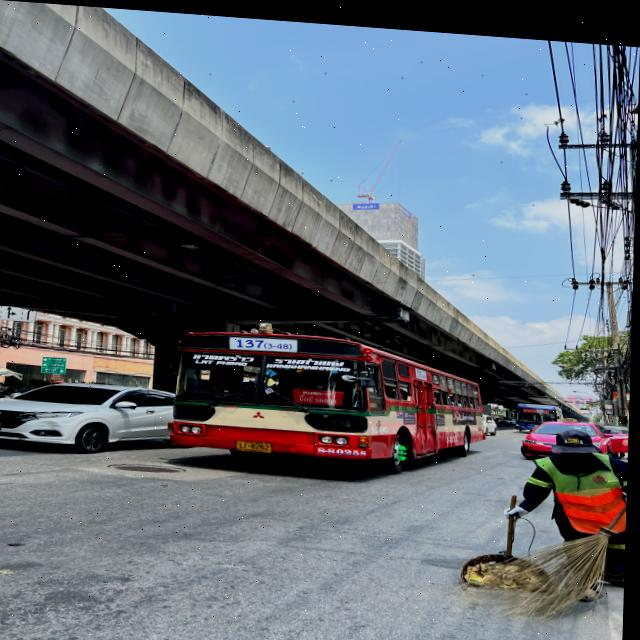BMTA-bus: (156, 309, 500, 478)
Bus Line Number: (231, 331, 299, 348), (545, 400, 552, 405)
Bus Side Number: (317, 440, 373, 452)
Destination Sign: (295, 381, 348, 400), (525, 400, 545, 405)
TSB-Bus: (513, 393, 567, 426)
